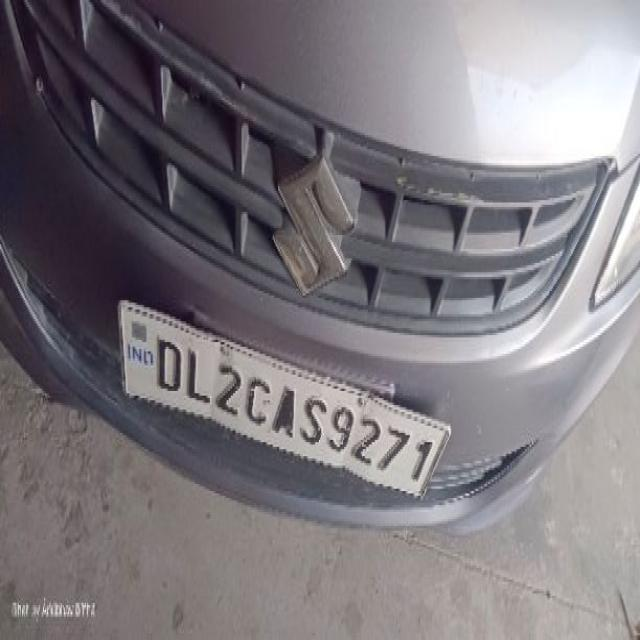license_plate: (1, 0, 638, 535), (116, 296, 451, 502)
